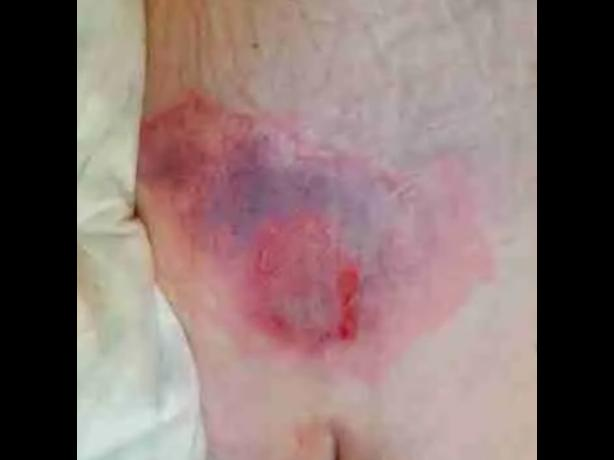Stage2: (137, 92, 498, 380)
